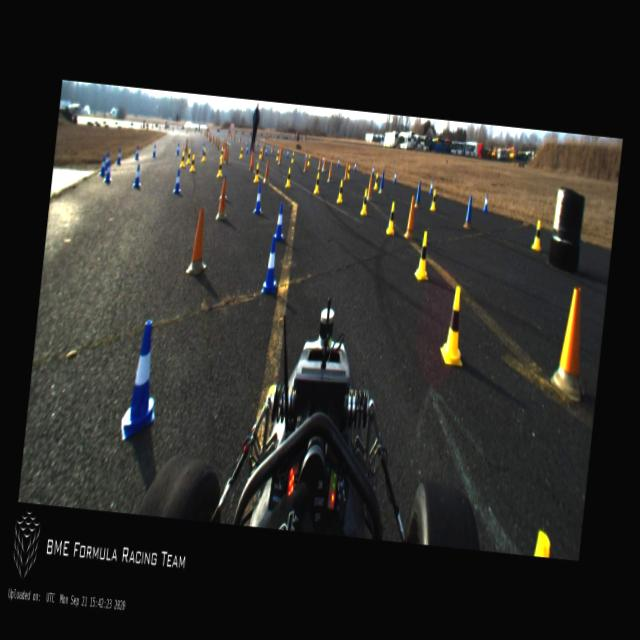blue_cone: (119, 316, 164, 445), (261, 237, 281, 294), (274, 202, 286, 236), (252, 185, 264, 214), (218, 174, 230, 202), (172, 169, 182, 194), (132, 164, 142, 188), (104, 161, 112, 183), (100, 156, 106, 176), (482, 193, 488, 212), (115, 148, 122, 164), (392, 169, 398, 183), (134, 146, 140, 159), (353, 160, 358, 172), (152, 144, 156, 157), (429, 180, 433, 193), (175, 142, 179, 154), (201, 143, 205, 154), (244, 144, 248, 154), (264, 147, 268, 156), (286, 148, 289, 158), (336, 158, 339, 167), (321, 156, 324, 164), (372, 166, 374, 176)
yellow_cone: (438, 285, 469, 365), (413, 230, 432, 280), (384, 202, 398, 234), (530, 219, 544, 251), (360, 188, 370, 215), (336, 178, 344, 203), (429, 189, 437, 210), (284, 168, 292, 188), (216, 155, 223, 177), (252, 164, 260, 182), (372, 173, 380, 189), (179, 150, 186, 168), (314, 172, 320, 193), (189, 154, 195, 172), (186, 148, 192, 164), (200, 148, 206, 161), (274, 149, 280, 161), (346, 165, 350, 180), (239, 146, 243, 159), (306, 154, 310, 166), (290, 151, 294, 163), (258, 148, 262, 160), (220, 146, 224, 158)
